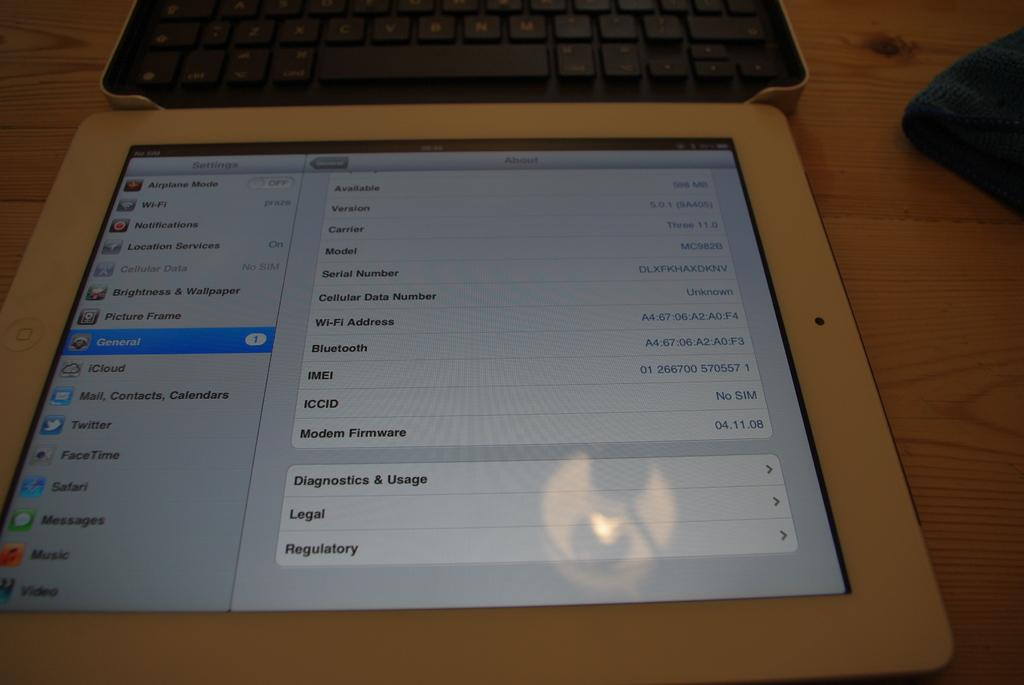Computer-keyboard: (100, 1, 806, 102)
